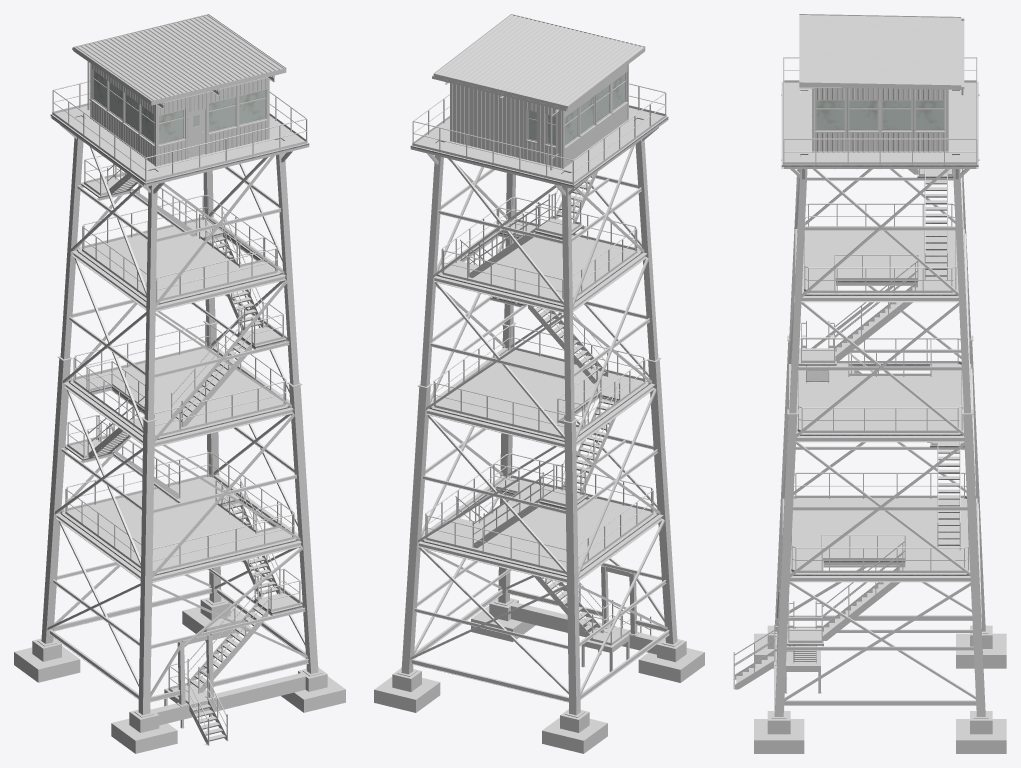
Rendered from NightProtocol_Tower_FINAL.fbx.
3 renders of one model, left to right at view 1: azimuth 30°, elevation 25°; view 2: azimuth 150°, elevation 25°; view 3: azimuth 270°, elevation 25°, orthographic. The views are drawn at different scales.
Parts seen in each view (by area): view 1: Deck_L06_Grating, ControlRoom_Roof_Sheeting_Trapezoidal, Deck_L12_Grating, Deck_L18_Grating, Balcony_L24_Grating, Leg_SW_Lower_RHS350x14, ControlRoom_Cladding_S_Ribbed, Leg_SE_Lower_RHS350x14, Leg_NW_Lower_RHS350x14, Foundation_GradeBeam_South_400x600, Leg_SW_Upper_RHS280x10, Leg_SE_Upper_RHS280x10 (+46 smaller); view 2: ControlRoom_Roof_Sheeting_Trapezoidal, Deck_L06_Grating, Deck_L12_Grating, Deck_L18_Grating, ControlRoom_Cladding_N_Ribbed, Balcony_L24_Grating, Leg_NW_Lower_RHS350x14, Leg_NE_Lower_RHS350x14, Leg_SW_Lower_RHS350x14, Leg_NW_Upper_RHS280x10, Leg_NE_Upper_RHS280x10, Leg_SW_Upper_RHS280x10 (+43 smaller); view 3: ControlRoom_Roof_Sheeting_Trapezoidal, Deck_L06_Grating, Deck_L12_Grating, Deck_L18_Grating, Balcony_L24_Grating, ControlRoom_Cladding_E_Ribbed, Leg_NE_Lower_RHS350x14, Leg_SE_Lower_RHS350x14, Leg_NE_Upper_RHS280x10, Leg_SE_Upper_RHS280x10, Foundation_SE, Foundation_NE (+46 smaller).
Part boxes in pixels (box(x1,y1,x2,y2)): Deck_L06_Grating: box(60, 476, 298, 575); ControlRoom_Roof_Sheeting_Trapezoidal: box(75, 14, 284, 100); Deck_L12_Grating: box(69, 348, 290, 439); Deck_L18_Grating: box(77, 219, 282, 304); Balcony_L24_Grating: box(50, 105, 309, 184); Leg_SW_Lower_RHS350x14: box(138, 420, 154, 715); ControlRoom_Cladding_S_Ribbed: box(157, 78, 267, 165); Leg_SE_Lower_RHS350x14: box(289, 385, 318, 674); Leg_NW_Lower_RHS350x14: box(41, 358, 70, 643); Foundation_GradeBeam_South_400x600: box(152, 673, 305, 725); Leg_SW_Upper_RHS280x10: box(144, 184, 157, 420); Leg_SE_Upper_RHS280x10: box(276, 153, 299, 385); ControlRoom_Roof_Sheeting_Trapezoidal: box(435, 14, 643, 106); Deck_L06_Grating: box(421, 477, 658, 576); Deck_L12_Grating: box(429, 349, 649, 441); Deck_L18_Grating: box(437, 221, 642, 306); ControlRoom_Cladding_N_Ribbed: box(452, 83, 561, 168); Balcony_L24_Grating: box(410, 107, 668, 186); Leg_NW_Lower_RHS350x14: box(564, 421, 580, 715); Leg_NE_Lower_RHS350x14: box(401, 386, 430, 674); Leg_SW_Lower_RHS350x14: box(648, 360, 677, 644); Leg_NW_Upper_RHS280x10: box(561, 186, 574, 422); Leg_NE_Upper_RHS280x10: box(420, 155, 443, 386); Leg_SW_Upper_RHS280x10: box(635, 140, 658, 360); ControlRoom_Roof_Sheeting_Trapezoidal: box(799, 15, 960, 85); Deck_L06_Grating: box(790, 498, 970, 575); Deck_L12_Grating: box(796, 363, 963, 435); Deck_L18_Grating: box(802, 230, 958, 295); Balcony_L24_Grating: box(781, 82, 978, 166); ControlRoom_Cladding_E_Ribbed: box(814, 88, 946, 152); Leg_NE_Lower_RHS350x14: box(963, 415, 985, 716); Leg_SE_Lower_RHS350x14: box(774, 415, 797, 716); Leg_NE_Upper_RHS280x10: box(953, 169, 970, 413); Leg_SE_Upper_RHS280x10: box(789, 169, 807, 413); Foundation_SE: box(754, 711, 804, 753); Foundation_NE: box(956, 711, 1006, 753).
Size of the model in its own units: 10 by 28.5 by 10.81.
